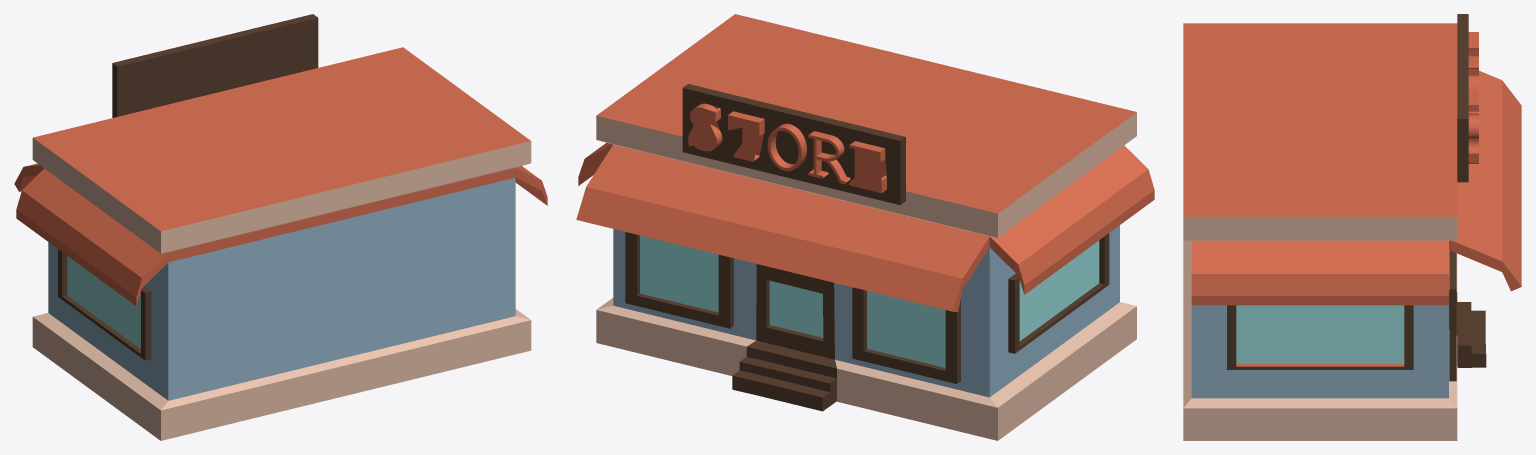
The model's file is 3DMODELS_Enviro_CRE312EditedBuildings_Store_01.fbx.
The picture shows the model from 3 angles, left to right: view 1: azimuth 30°, elevation 25°; view 2: azimuth 150°, elevation 25°; view 3: azimuth 270°, elevation 25°; orthographic projection. The views are drawn at different scales.
Parts seen in each view (by area): view 1: store:typeMesh1; view 2: store:typeMesh1; view 3: store:typeMesh1.
Part boxes in pixels (x1,y1,x2,y2): store:typeMesh1: [14, 14, 547, 440]; store:typeMesh1: [576, 14, 1154, 440]; store:typeMesh1: [1183, 14, 1521, 440].
Bounding box in the file's own units: 12.1 × 7.3 × 8.06.
